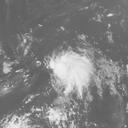cyclone: (50, 52, 93, 92)
